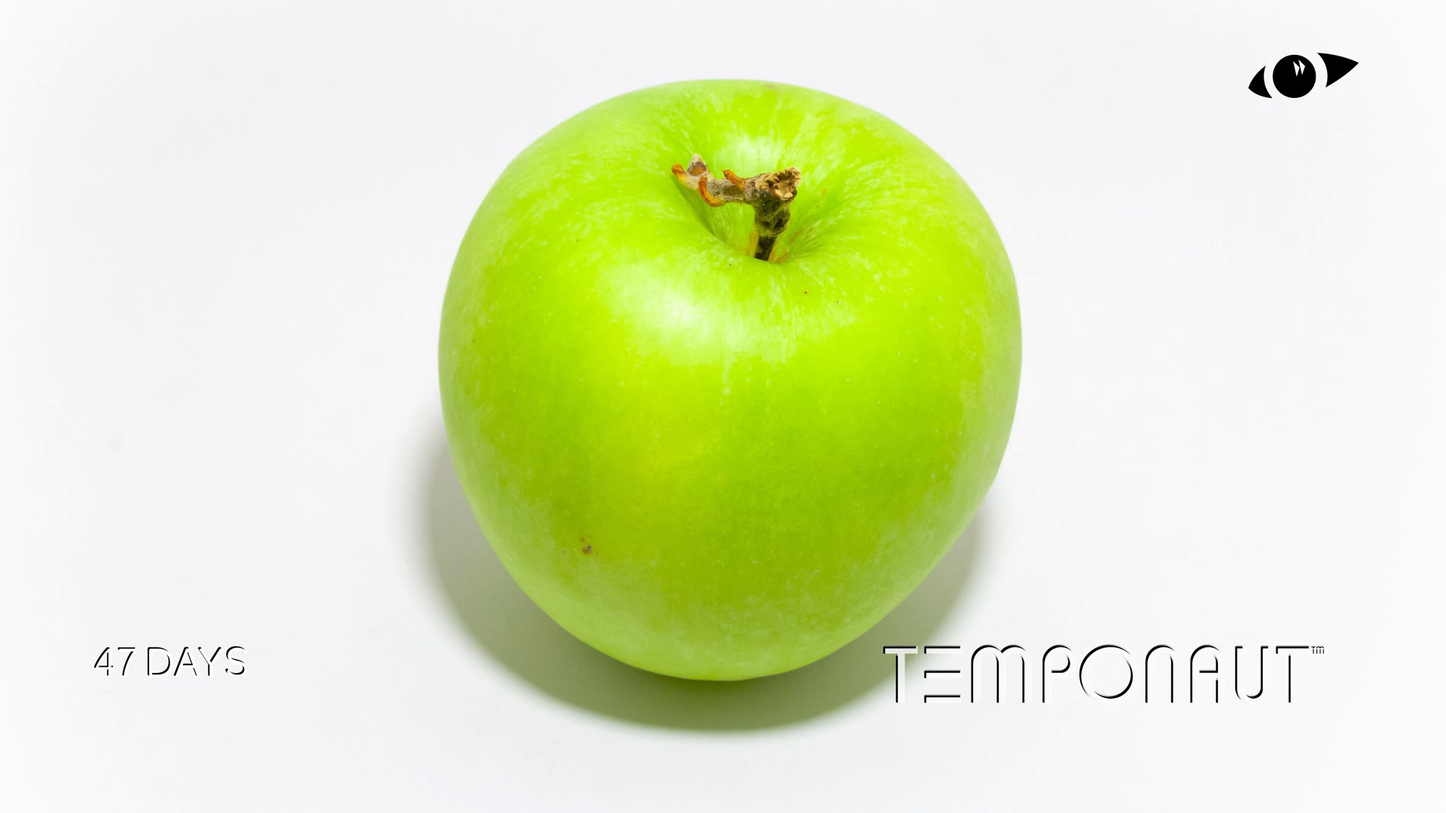apple_fresh: (437, 79, 1022, 684)
